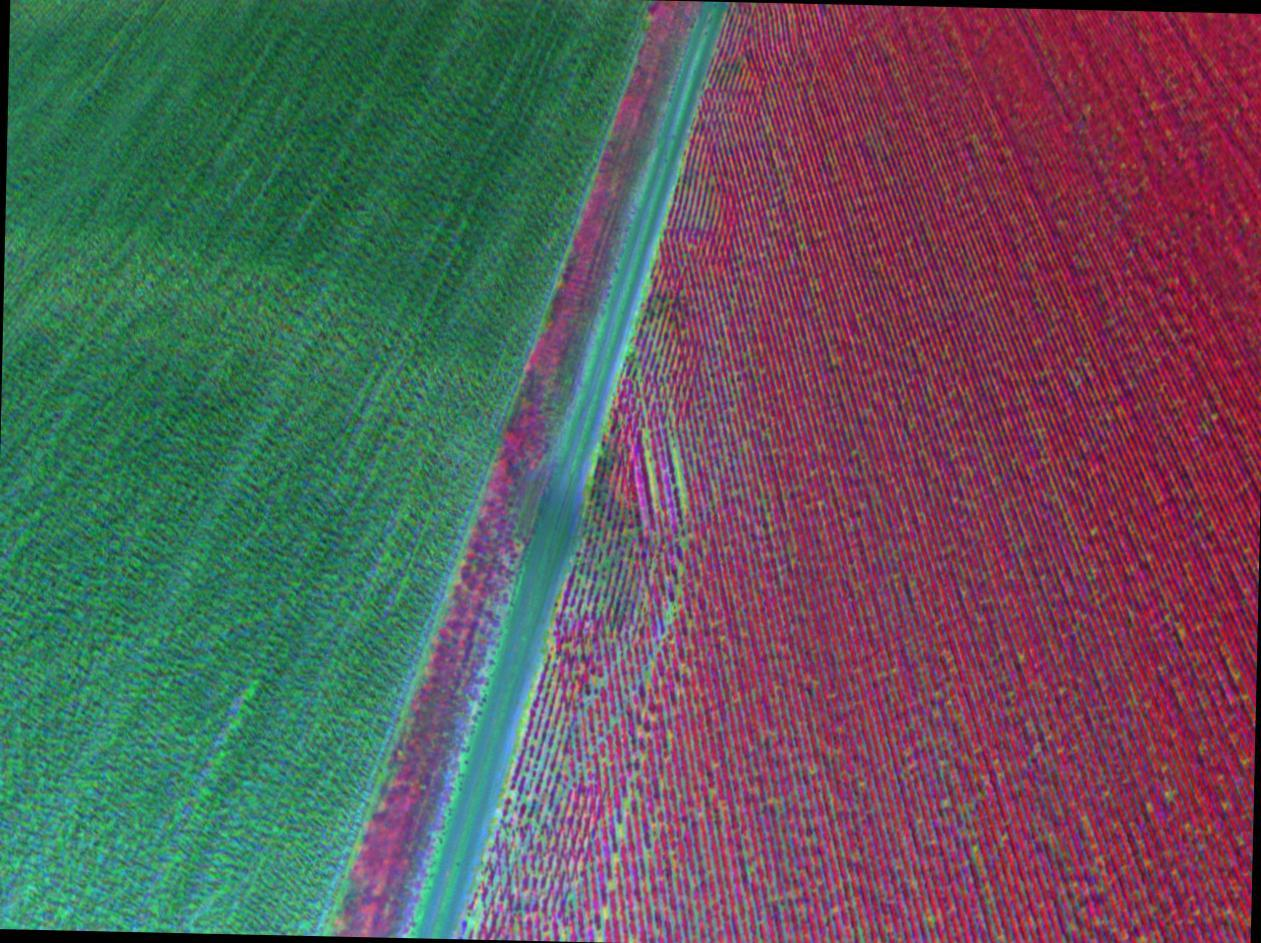dc: (600, 910, 603, 915), (610, 883, 614, 886), (830, 280, 831, 287), (931, 917, 933, 920)
